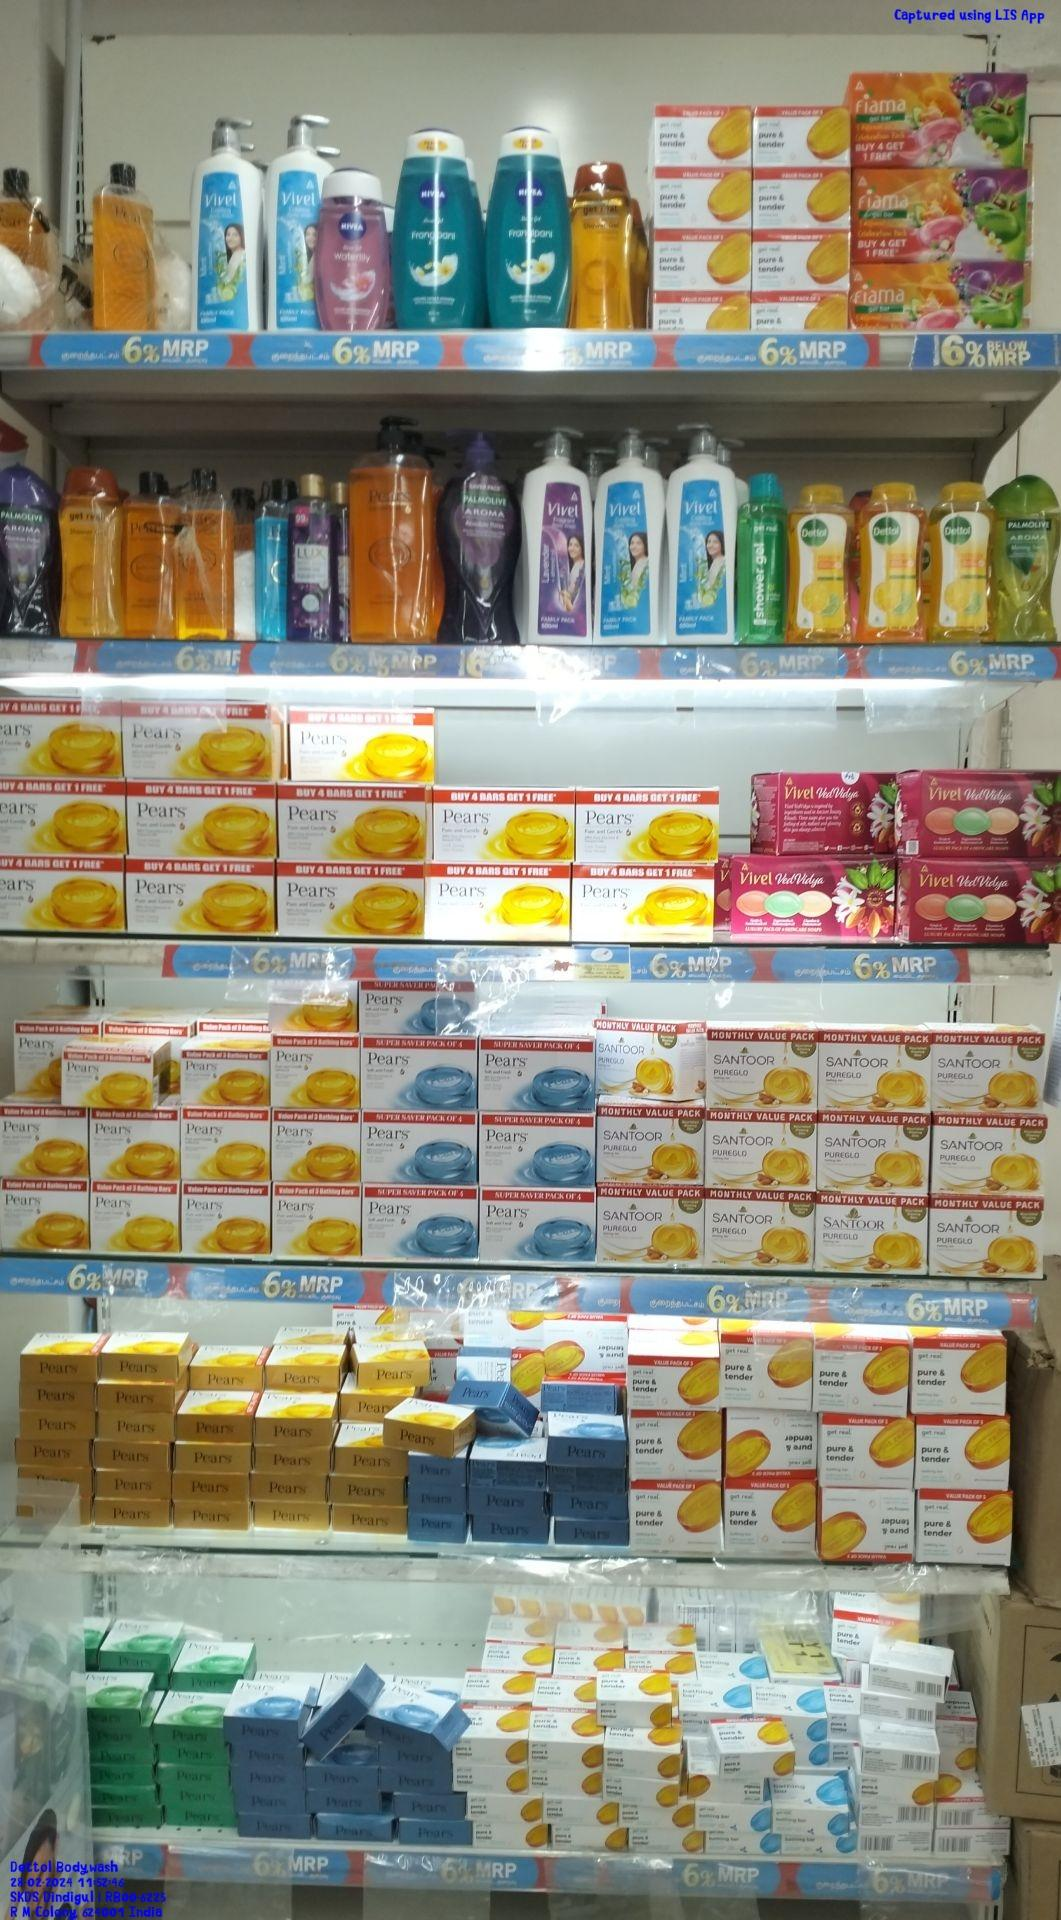Dettol_Bodywash_Refresh: (860, 481, 924, 645), (788, 479, 851, 645), (930, 479, 993, 640)
Get_Real_Shower_Gel_Moisturising_Glycerin_300ML: (61, 462, 123, 640)
Lux_Black_Orchid_Scent_and_Juniper_Oil_Body_Wash_245ML: (285, 465, 341, 644)
Nivea_Shower_Gel_Frangipani_and_Oil_250ML: (396, 125, 482, 333), (489, 123, 568, 329)
Nivea_Shower_Gel_Waterlily_and_Oil_250ML: (315, 161, 391, 332)
Palmolive_Aroma_Morning_Tonic_Shower_Gel_250ML: (996, 473, 1060, 644)
Palmolive_Aroma_Relax_250ML: (0, 461, 56, 640)
